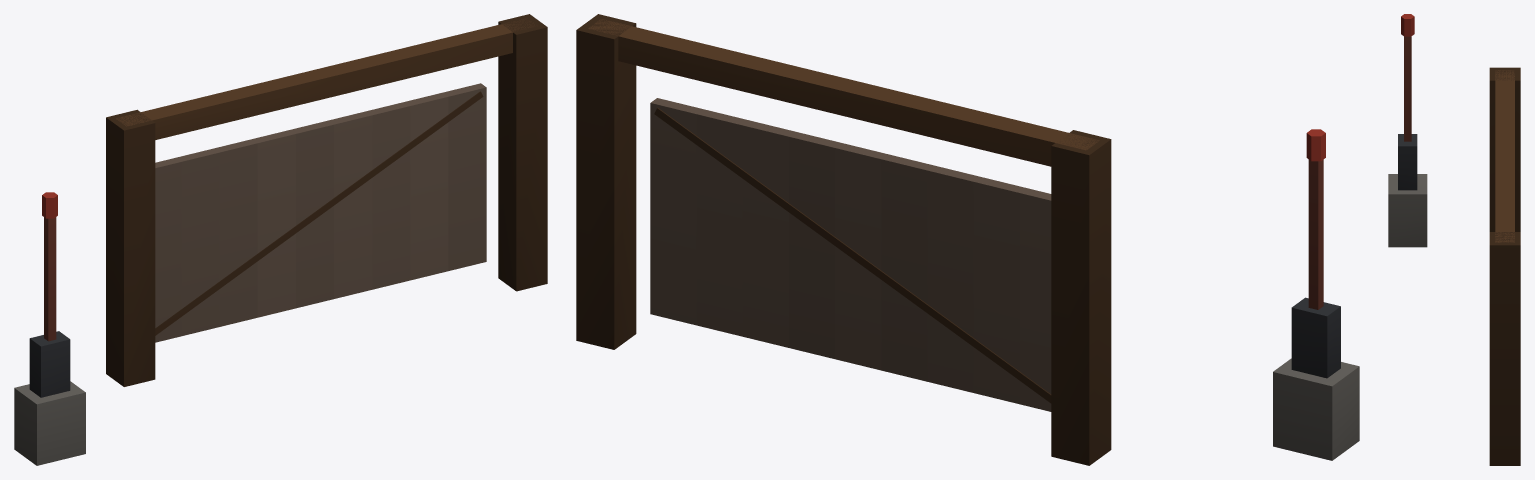
File: kit_lever_gate.glb
3 views of the same model, side by side, from view 1: azimuth 30°, elevation 25°; view 2: azimuth 150°, elevation 25°; view 3: azimuth 270°, elevation 25° (orthographic). The views are drawn at different scales.
Visible parts, largest first — view 1: gate_leaf, gate_posts, lever_base, lever_arm; view 2: gate_leaf, gate_posts, lever_base, lever_arm; view 3: gate_posts, lever_base, lever_arm.
Boxes of the visible parts, x1,y1,x2,y2 form: gate_leaf: (155,83,486,342); gate_posts: (106,14,547,386); lever_base: (14,331,85,465); lever_arm: (42,192,57,341); gate_leaf: (650,98,1051,411); gate_posts: (576,14,1111,465); lever_base: (1273,297,1359,460); lever_arm: (1306,129,1325,309); gate_posts: (1489,67,1520,465); lever_base: (1388,134,1427,247); lever_arm: (1401,14,1414,141).
Bounding box in the file's own units: 17.43 × 7.5 × 4.08.
